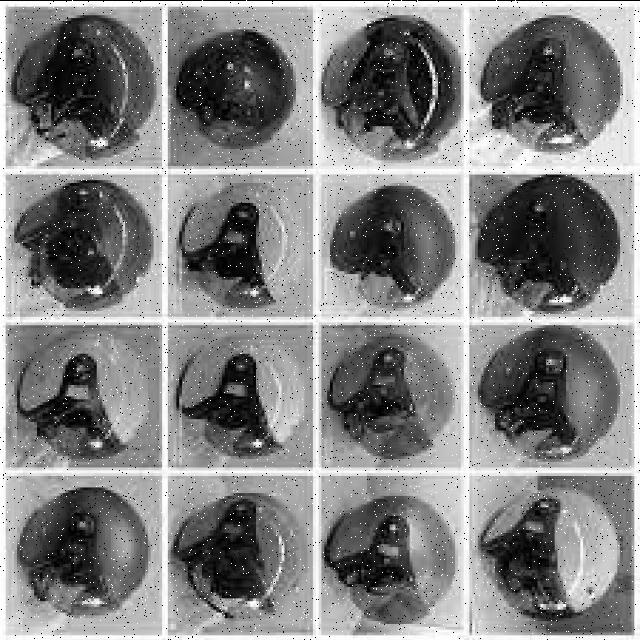Helmet: (0, 10, 156, 162), (314, 12, 462, 164), (472, 482, 624, 628), (473, 16, 621, 156), (474, 178, 624, 316), (12, 180, 158, 314), (15, 482, 153, 622), (12, 322, 148, 464), (320, 492, 460, 628), (168, 488, 306, 624), (479, 332, 618, 458), (175, 332, 304, 462), (327, 328, 455, 458), (180, 182, 308, 308), (328, 184, 456, 308), (172, 32, 294, 148)
